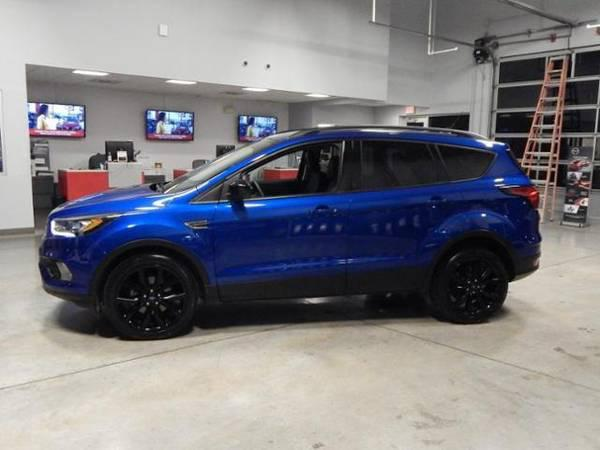Front_Bumper: (38, 213, 130, 308)
Front_Fender: (53, 178, 226, 295)
Front_Left_Door: (213, 192, 350, 296)
Front_Left_Window: (218, 135, 355, 202)
Hood: (49, 182, 176, 216)
Left_Headlight: (50, 207, 127, 237)
Left_Taillight: (499, 180, 542, 212)
Rear_Bumper: (504, 207, 541, 280)
Rear_Fender: (433, 140, 528, 238)
Rear_Left_Door: (347, 186, 471, 293)
Rear_Left_Window: (350, 136, 457, 195)
Roof: (184, 121, 525, 198)
Wheel: (101, 252, 195, 340), (436, 246, 512, 326)
